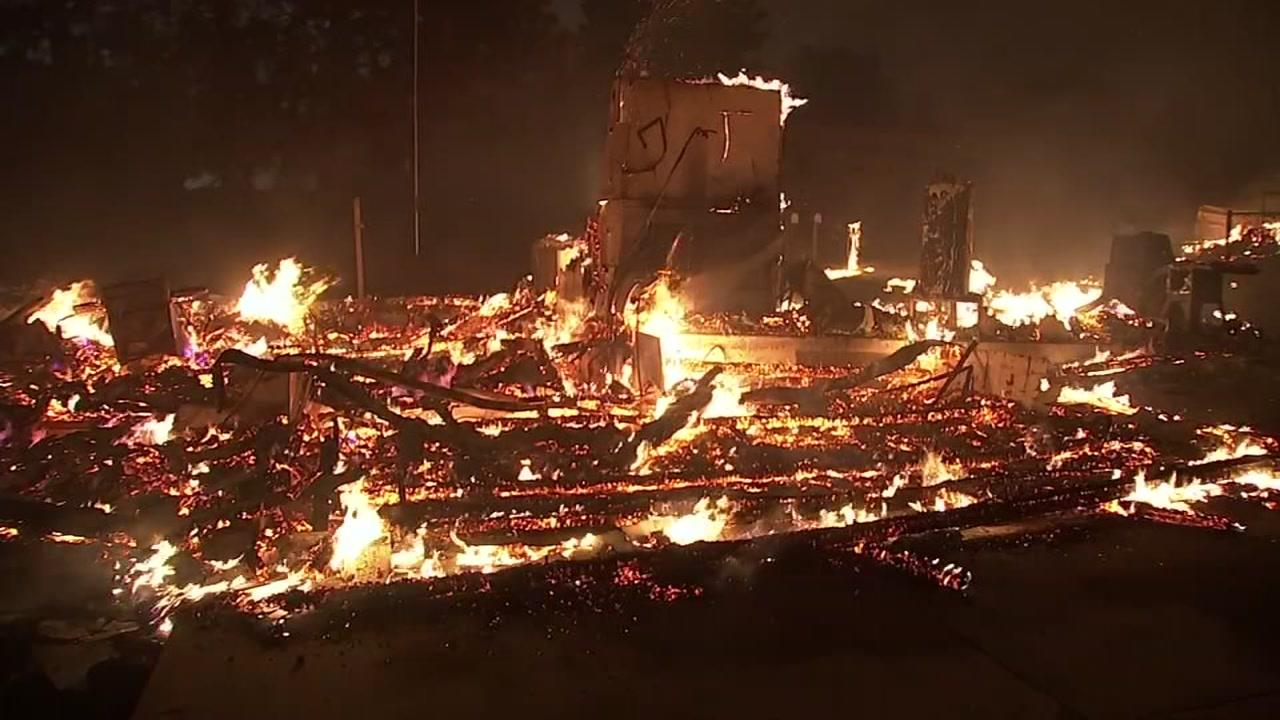Fire: (53, 230, 1280, 578)
